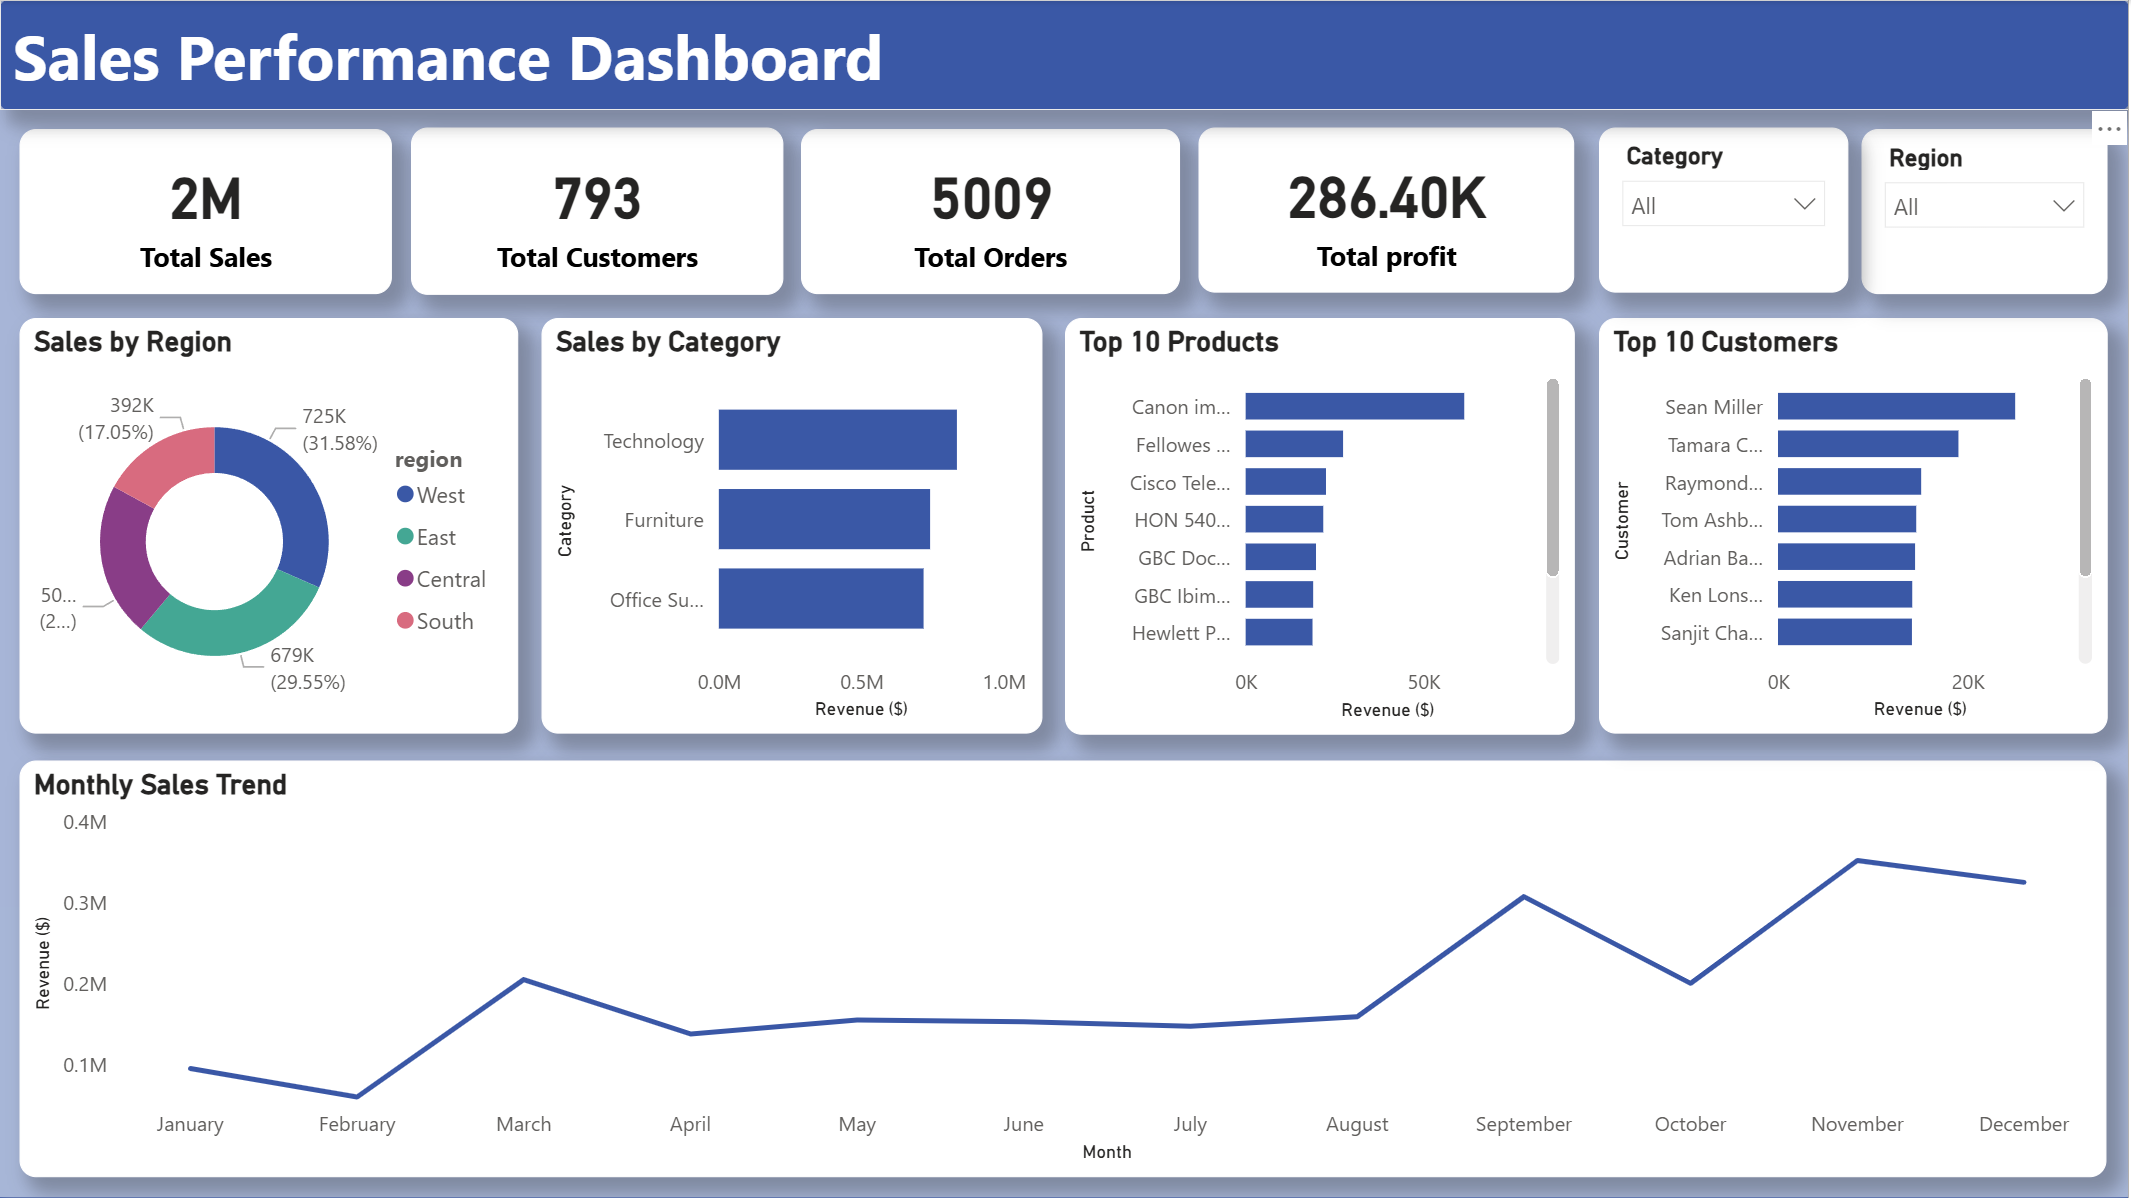

The page's visual inventory and layout, read from the dashboard file:
{"tool":"powerbi","page":{"name":"Page 1","canvas":[1280,720],"ordinal":0},"visuals":[{"type":"card","fields":{"Values":["Sum(cleaned_salesdata.sales)"]},"box":[12,77.4,224.3,99.6],"z":0},{"type":"card","fields":{"Values":["Count(cleaned_salesdata.customer_name)"]},"box":[247.4,76.4,224.3,100.6],"z":1000},{"type":"card","fields":{"Values":["Count(cleaned_salesdata.order_id)"]},"box":[481.8,77.4,228.3,99.6],"z":2000},{"type":"card","fields":{"Values":["Sum(cleaned_salesdata.profit)"]},"box":[721.1,76.4,226.3,99.6],"z":3000},{"type":"donutChart","title":"Sales by Region","fields":{"Category":["cleaned_salesdata.region"],"Y":["Sum(cleaned_salesdata.sales)"]},"box":[11.6,191.2,300.1,250.3],"z":4000},{"type":"clusteredBarChart","title":"Sales by Category","fields":{"Category":["cleaned_salesdata.category"],"Y":["Sum(cleaned_salesdata.sales)"]},"box":[325.6,191.2,301.3,250.3],"z":5000},{"type":"clusteredBarChart","title":"Top 10 Products","fields":{"Category":["cleaned_salesdata.product_name"],"Y":["Sum(cleaned_salesdata.sales)"]},"box":[640.7,191.1,306.8,250.4],"z":6000},{"type":"lineChart","title":"Monthly Sales Trend","fields":{"Category":["cleaned_salesdata.Date.Variation.Date Hierarchy.Year","cleaned_salesdata.Date.Variation.Date Hierarchy.Month"],"Y":["Sum(cleaned_salesdata.sales)"]},"box":[12.1,457.6,1255.2,250.4],"z":7000},{"type":"clusteredBarChart","title":"Top 10 Customers","fields":{"Category":["cleaned_salesdata.customer_name"],"Y":["Sum(cleaned_salesdata.sales)"]},"box":[961.7,191.2,305.9,250.3],"z":8000},{"type":"slicer","fields":{"Values":["cleaned_salesdata.region"]},"box":[1119.4,77.4,147.8,99.6],"z":9000},{"type":"slicer","fields":{"Values":["cleaned_salesdata.category"]},"box":[961.5,76.4,149.9,99.6],"z":10000},{"type":"textbox","box":[0,0,1280.4,66],"z":12000}]}

Visuals, with their boxes in screenshot pixels (x1, y1, x2, y2), scaled from the page's 1280x720 canvas onto the 2131x1198 screenshot:
card - Sum(cleaned_salesdata.sales): pyautogui.locateOnScreen(20, 129, 393, 295)
card - Count(cleaned_salesdata.customer_name): pyautogui.locateOnScreen(412, 127, 785, 295)
card - Count(cleaned_salesdata.order_id): pyautogui.locateOnScreen(802, 129, 1182, 295)
card - Sum(cleaned_salesdata.profit): pyautogui.locateOnScreen(1201, 127, 1577, 293)
"Sales by Region" donutChart: pyautogui.locateOnScreen(19, 318, 519, 735)
"Sales by Category" clusteredBarChart: pyautogui.locateOnScreen(542, 318, 1044, 735)
"Top 10 Products" clusteredBarChart: pyautogui.locateOnScreen(1067, 318, 1577, 735)
"Monthly Sales Trend" lineChart: pyautogui.locateOnScreen(20, 761, 2110, 1178)
"Top 10 Customers" clusteredBarChart: pyautogui.locateOnScreen(1601, 318, 2110, 735)
slicer - cleaned_salesdata.region: pyautogui.locateOnScreen(1864, 129, 2110, 295)
slicer - cleaned_salesdata.category: pyautogui.locateOnScreen(1601, 127, 1850, 293)
textbox: pyautogui.locateOnScreen(0, 0, 2130, 110)
